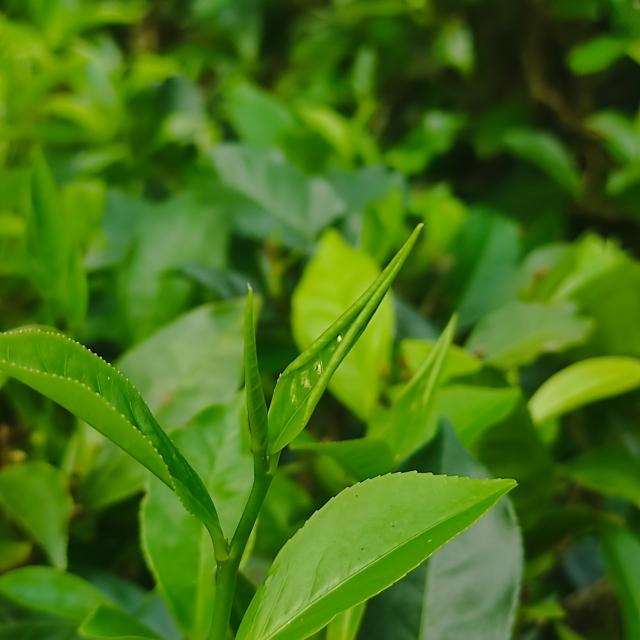unopened_leaf: (235, 277, 272, 462)
